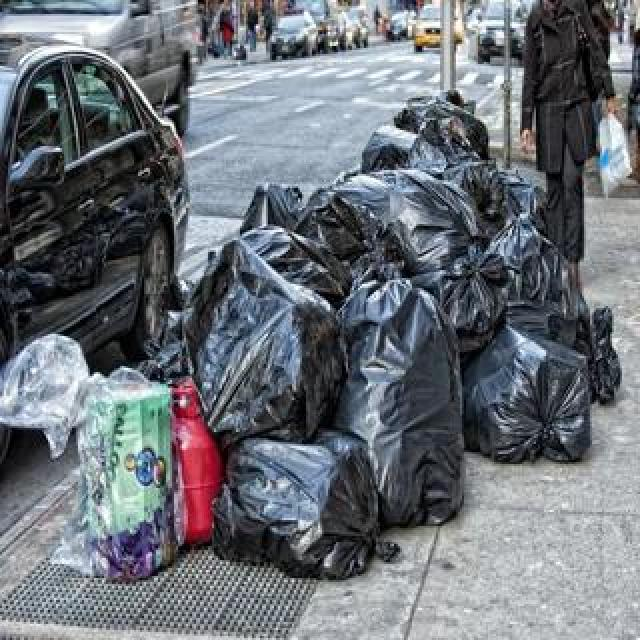Trashbag: (201, 255, 345, 445), (360, 283, 464, 528), (225, 433, 376, 573), (336, 173, 498, 288), (476, 344, 588, 461), (496, 232, 596, 348), (401, 87, 487, 143), (490, 164, 550, 236), (366, 128, 444, 180)
